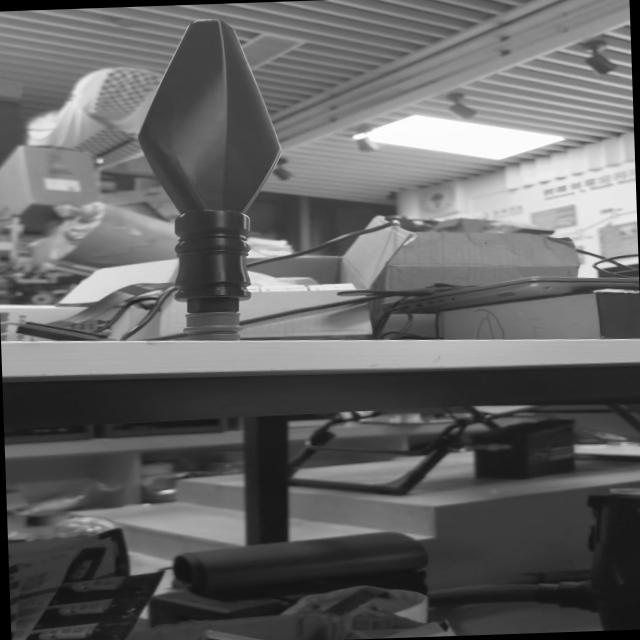base: (185, 308, 243, 340)
